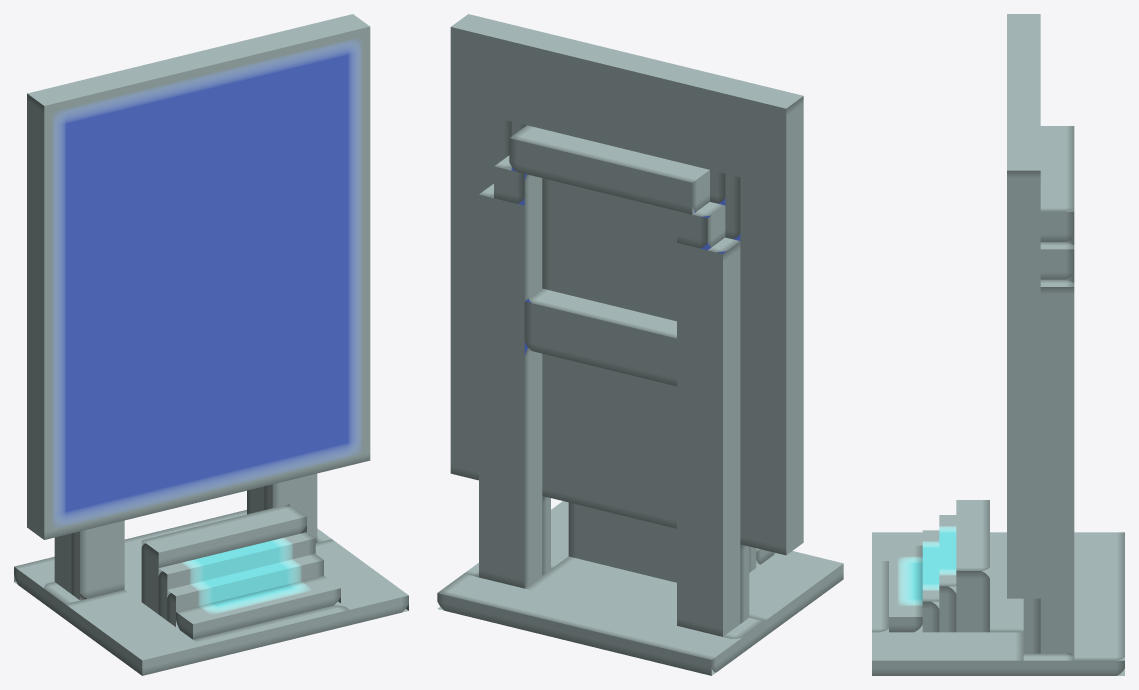
The model's file is zdj_rodzinne_wyswietlacz.dae.
The picture shows the model from 3 angles, left to right: view 1: azimuth 30°, elevation 25°; view 2: azimuth 150°, elevation 25°; view 3: azimuth 270°, elevation 25°; orthographic projection. The views are drawn at different scales.
Visible parts, largest first — view 1: Content; view 2: Content; view 3: Content.
Boxes of the visible parts, x1=… form: Content: x1=14, y1=14, x2=408, y2=675; Content: x1=437, y1=14, x2=843, y2=675; Content: x1=872, y1=14, x2=1124, y2=675.
Size of the model in its own units: 22 by 34 by 15.
1 material, 1 textured.
